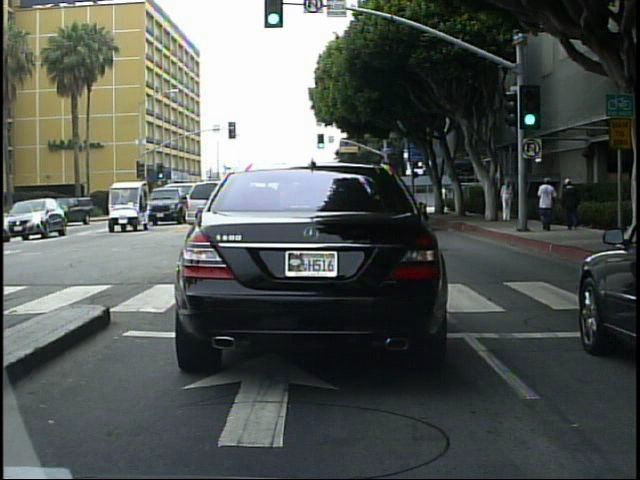person: (562, 172, 586, 239), (537, 173, 559, 232), (499, 177, 516, 225), (437, 181, 451, 215)
